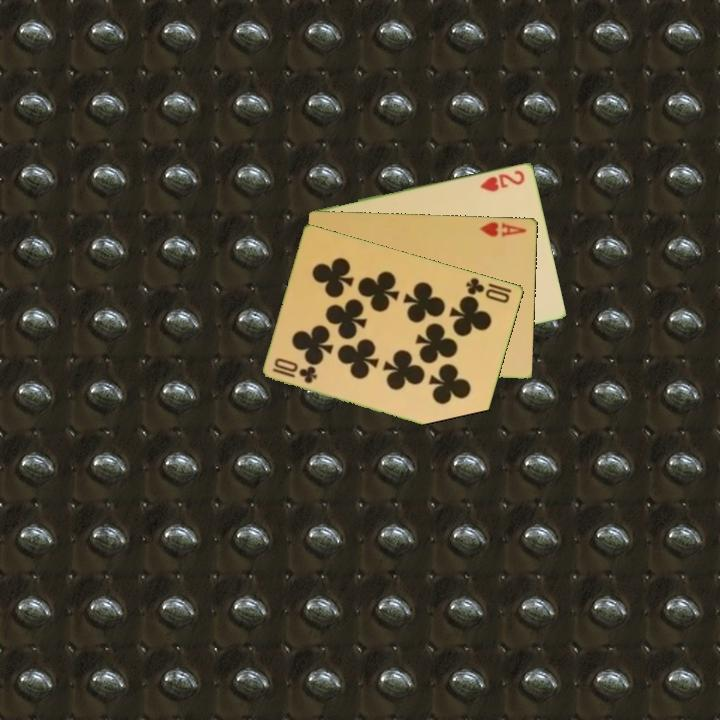10c: (463, 274, 515, 306), (269, 355, 321, 386)
2h: (476, 166, 528, 194)
Ah: (477, 218, 529, 240)
